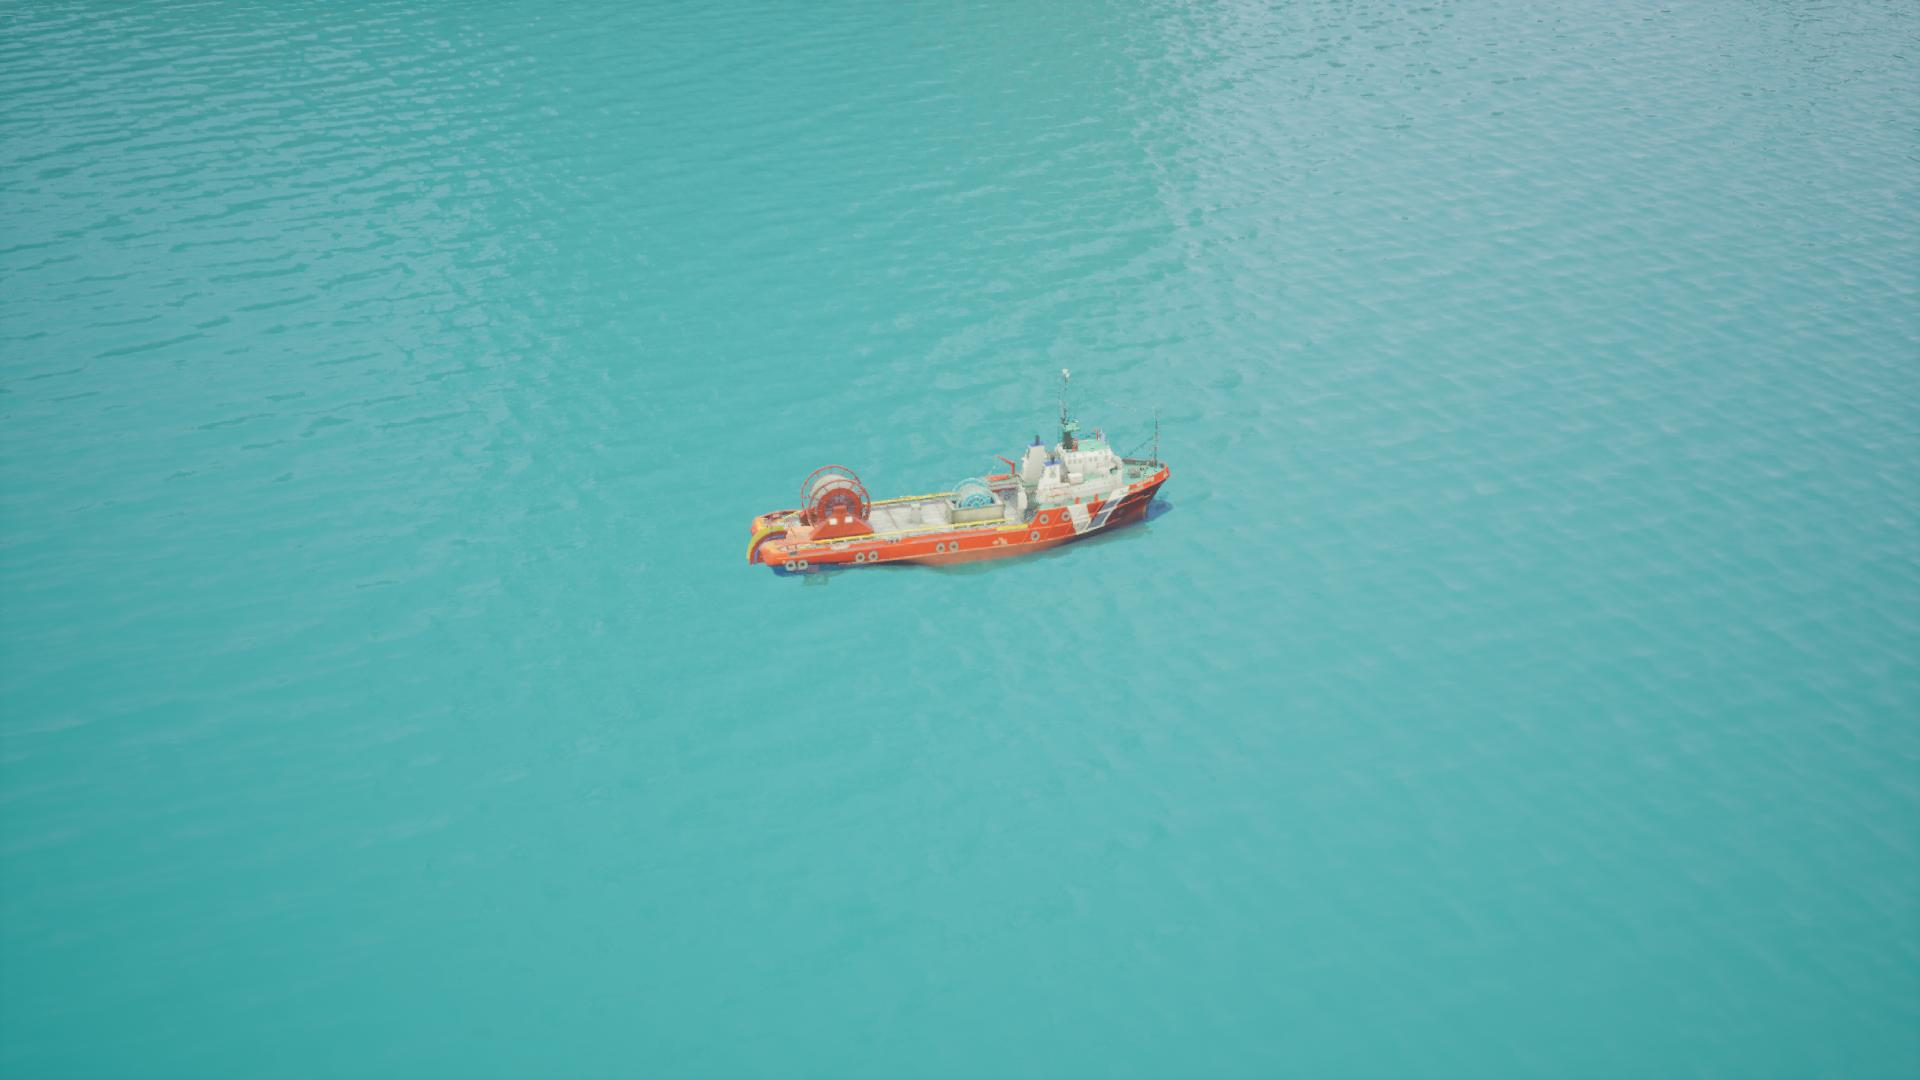Tug Boat: (745, 433, 1184, 575)
